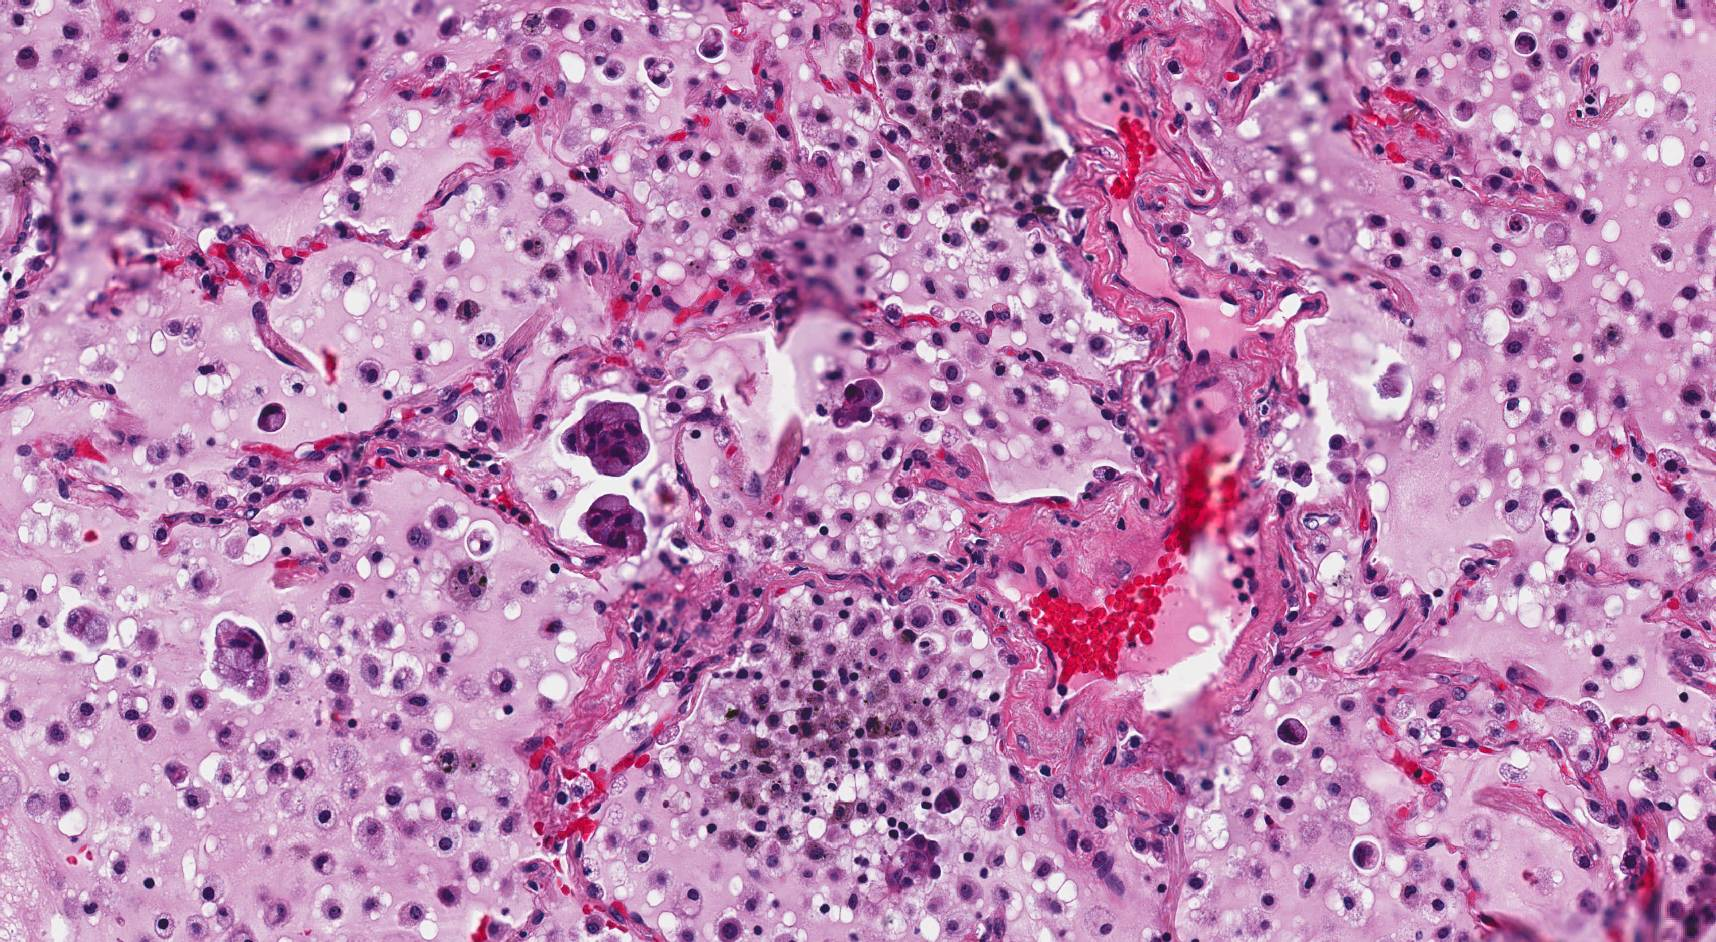stas: (560, 403, 651, 478), (210, 620, 273, 700), (580, 492, 650, 550), (832, 380, 886, 425)
